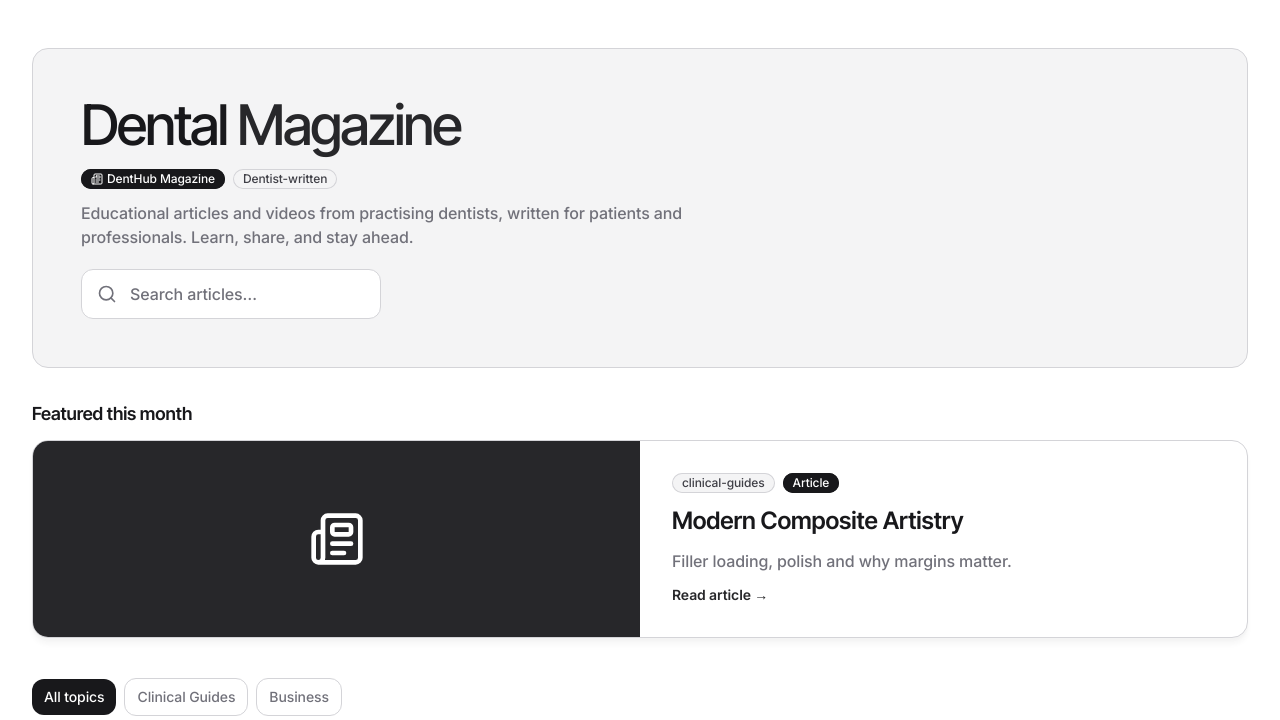
it: Magazine › hides the featured block while a filter is active
The width and height of the screenshot is (1280, 720).
Expected: the heading "Featured this month" is shown, [32, 403, 192, 424]
Click the button "Clinical Guides" at (186, 697), box [124, 678, 248, 716]
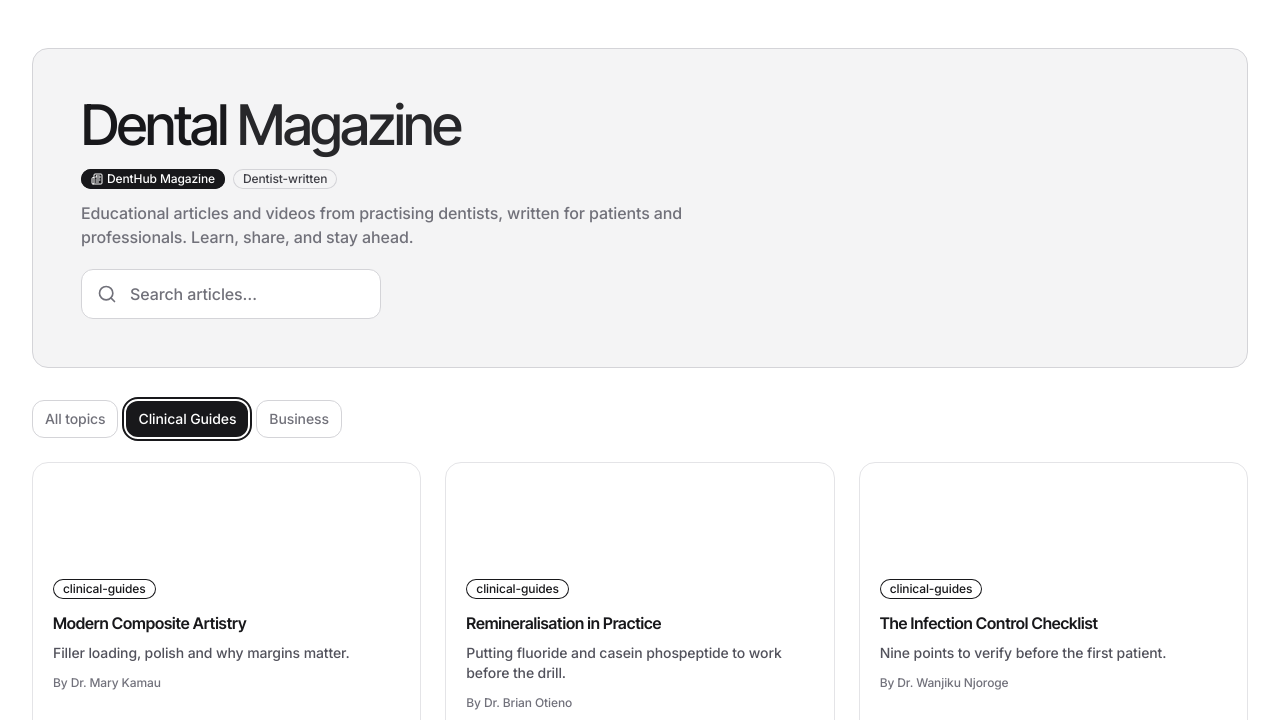
Expected: the heading "Featured this month" is gone
